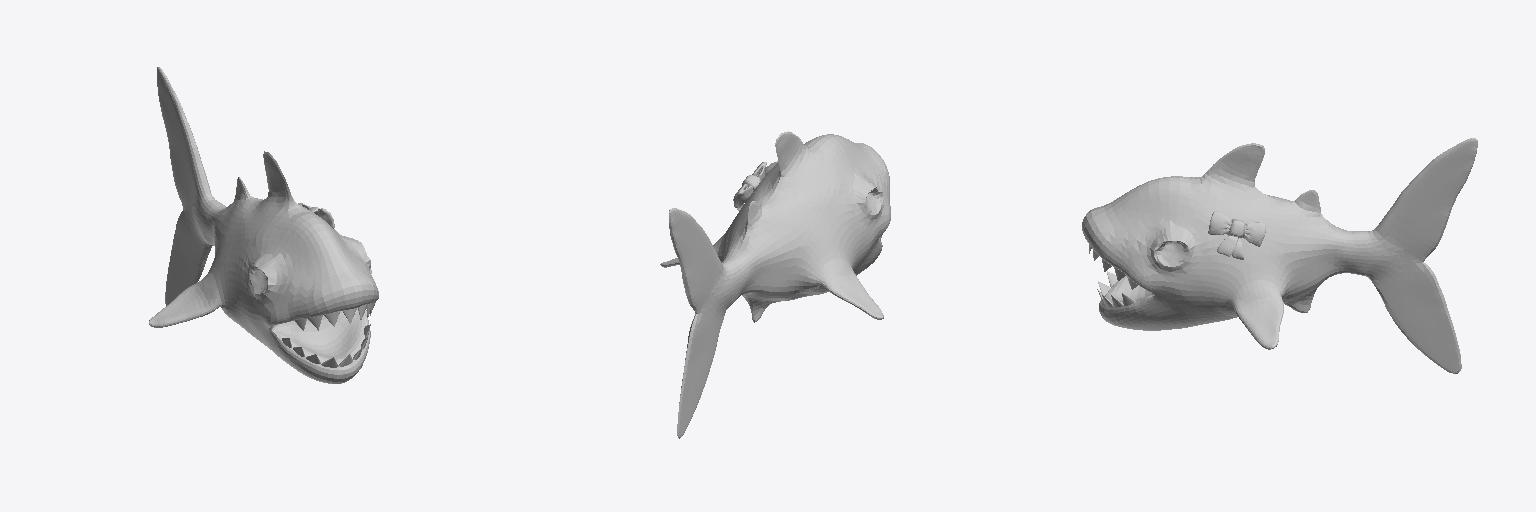
File: BabyShark.obj
The picture shows the model from 3 angles: view 1: azimuth 30°, elevation 25°; view 2: azimuth 150°, elevation 25°; view 3: azimuth 270°, elevation 25°; orthographic projection.
Parts seen in each view (by area): view 1: Group2; view 2: Group2, Group5; view 3: Group2, Group5.
Boxes of the visible parts, x1=… form: Group2: x1=149, y1=67, x2=378, y2=383; Group2: x1=660, y1=131, x2=890, y2=438; Group5: x1=733, y1=162, x2=766, y2=210; Group2: x1=1082, y1=138, x2=1477, y2=373; Group5: x1=1208, y1=211, x2=1265, y2=259.
Size of the model in its own units: 17.1 by 17.37 by 26.38.